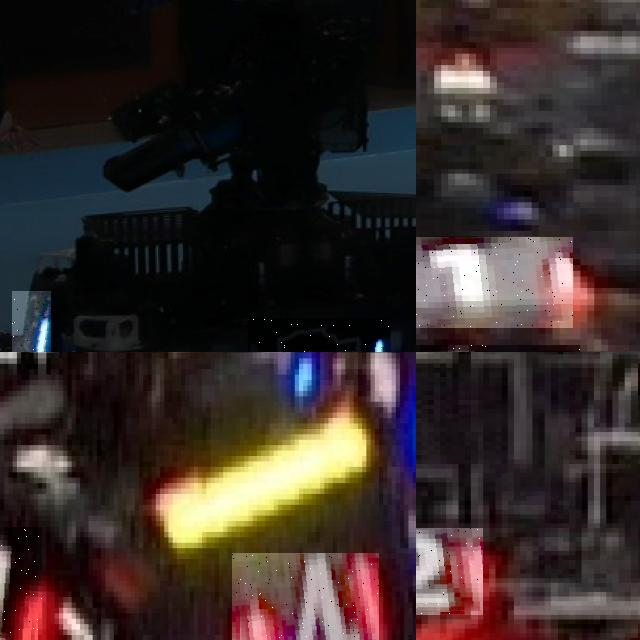Bs: (248, 317, 391, 352), (12, 290, 51, 352)
R1: (416, 236, 573, 328)
R2: (416, 528, 483, 615)
R4: (231, 553, 379, 640), (0, 526, 42, 640)
